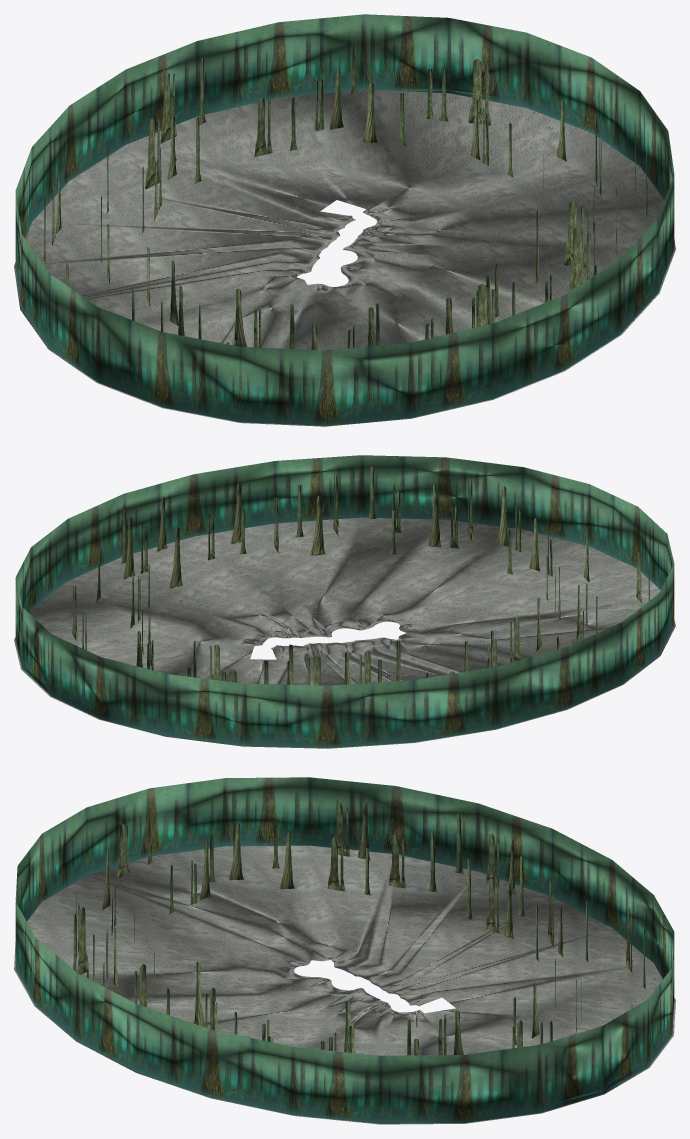
3 views of the same model, one above another, from view 1: azimuth 30°, elevation 25°; view 2: azimuth 150°, elevation 25°; view 3: azimuth 270°, elevation 25° (orthographic). The views are drawn at different scales.
Parts seen in each view (by area): view 1: mesh0, mesh2, mesh3, mesh1; view 2: mesh2, mesh0, mesh3, mesh1; view 3: mesh0, mesh2, mesh3, mesh1.
Boxes of the visible parts, box(x1,y1,x2,y2) form: mesh0: box(14, 89, 675, 426); mesh2: box(15, 14, 674, 419); mesh3: box(43, 41, 647, 350); mesh1: box(15, 83, 674, 425); mesh2: box(15, 455, 674, 743); mesh0: box(14, 517, 675, 748); mesh3: box(72, 467, 649, 685); mesh1: box(15, 512, 674, 748); mesh0: box(14, 845, 675, 1124); mesh2: box(15, 777, 674, 1118); mesh3: box(73, 802, 645, 1055); mesh1: box(15, 840, 674, 1123).
Size of the model in its own units: 2419 by 331 by 2419.
